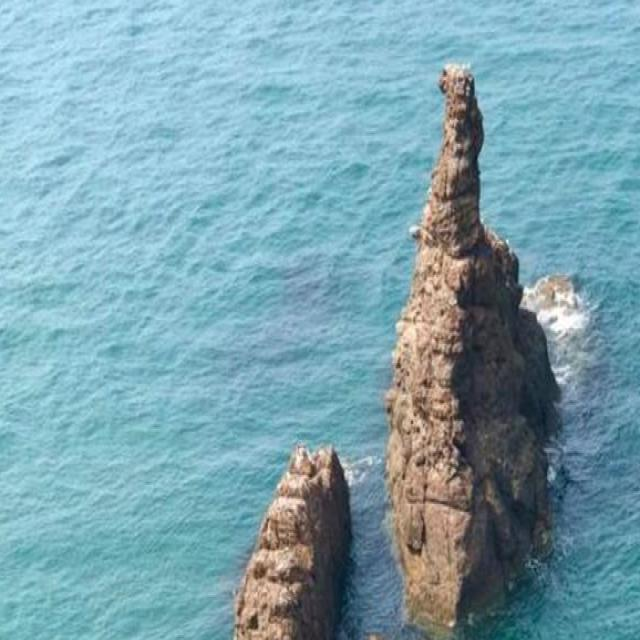reef: (228, 61, 561, 640)
